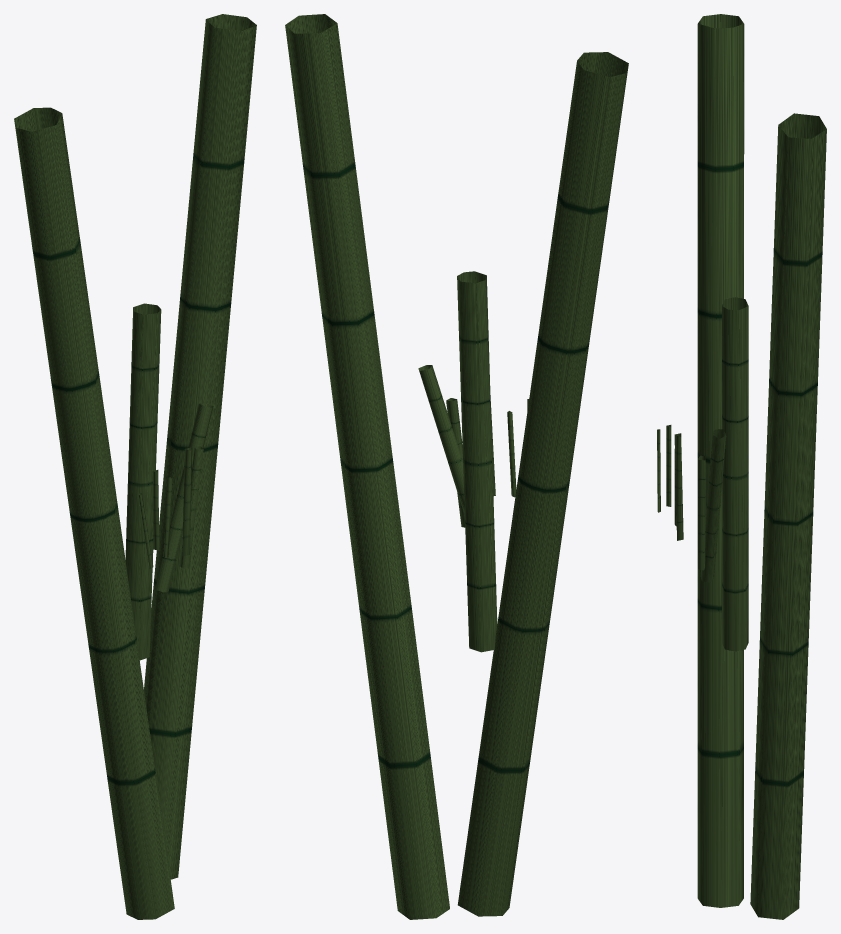
Rendered from BackGround.obj.
3 renders of one model, left to right at view 1: azimuth 30°, elevation 25°; view 2: azimuth 150°, elevation 25°; view 3: azimuth 270°, elevation 25°, orthographic. The views are drawn at different scales.
Parts seen in each view (by area): view 1: 円柱.001; view 2: 円柱.001; view 3: 円柱.001.
Boxes of the visible parts, x1,y1,x2,y2 form: 円柱.001: (14, 14, 256, 919); 円柱.001: (285, 14, 628, 919); 円柱.001: (657, 14, 826, 919).
Size of the model in its own units: 144 by 417 by 76.48.
1 material, 1 textured.
